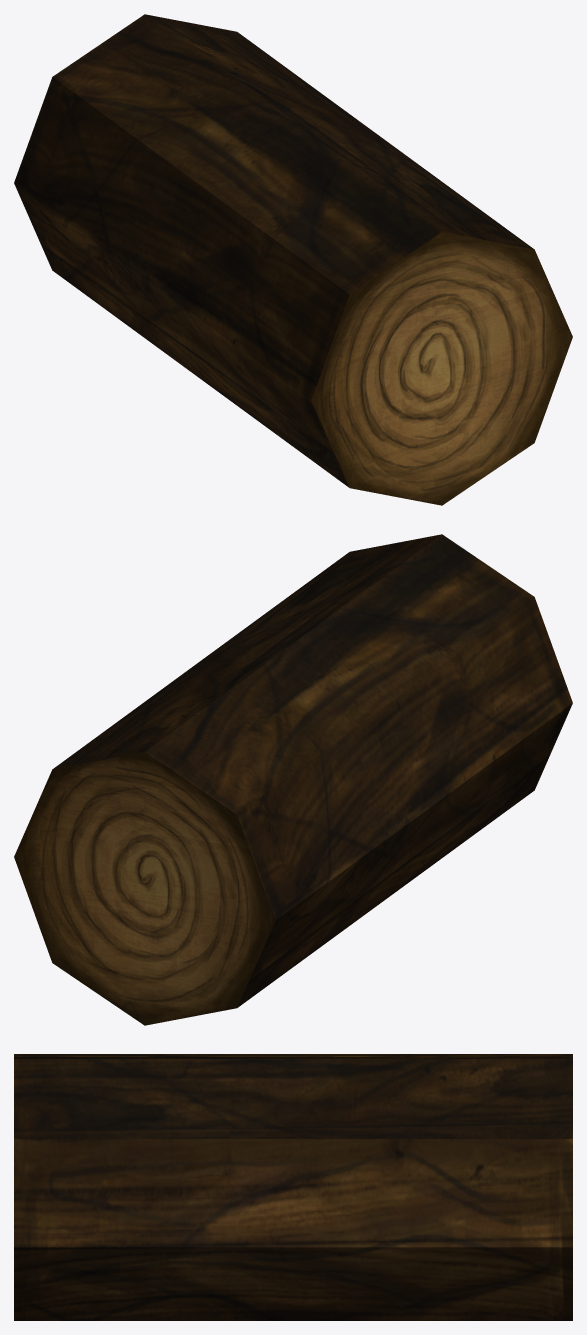
Rendered from maya2sketchfab.fbx.
The picture shows the model from 3 angles, top to bottom: view 1: azimuth 30°, elevation 25°; view 2: azimuth 150°, elevation 25°; view 3: azimuth 270°, elevation 25°; orthographic projection. The views are drawn at different scales.
Parts seen in each view (by area): view 1: pCylinder1; view 2: pCylinder1; view 3: pCylinder1.
Part boxes in pixels (left/top/right/bottom): pCylinder1: left=14, top=14, right=572, bottom=505; pCylinder1: left=14, top=534, right=572, bottom=1025; pCylinder1: left=14, top=1054, right=572, bottom=1320.
Size of the model in its own units: 1.45 by 1.45 by 2.86.
1 material, 1 textured.
